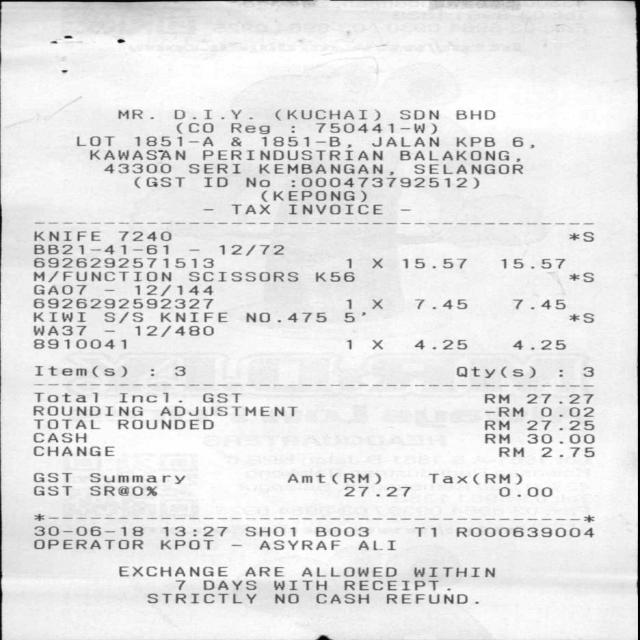text: (291, 176, 478, 188), (32, 297, 212, 309), (33, 256, 212, 268), (202, 149, 382, 160), (32, 270, 170, 282), (257, 163, 392, 175), (456, 526, 596, 537), (32, 243, 166, 254), (315, 122, 436, 134), (399, 150, 519, 162), (159, 406, 296, 416), (187, 270, 297, 282), (147, 592, 254, 604), (273, 109, 379, 121), (259, 190, 365, 202), (31, 405, 141, 416), (412, 163, 521, 174), (33, 525, 142, 536), (118, 566, 226, 577), (34, 364, 125, 377), (88, 472, 183, 484), (286, 472, 379, 484), (427, 472, 520, 484), (33, 539, 142, 549), (260, 136, 349, 148), (343, 579, 440, 590), (88, 149, 183, 160), (286, 203, 381, 214), (117, 418, 212, 429), (301, 566, 395, 577), (455, 365, 533, 378), (414, 566, 494, 578), (134, 284, 212, 296), (134, 325, 212, 337), (386, 593, 471, 604), (34, 339, 124, 349), (32, 445, 112, 456), (259, 539, 339, 550), (133, 135, 211, 146), (173, 108, 242, 120), (244, 312, 325, 322), (218, 244, 282, 256), (158, 311, 226, 322), (525, 432, 593, 443), (31, 418, 98, 429), (34, 230, 99, 241), (90, 485, 155, 496), (343, 486, 408, 497), (161, 526, 226, 537), (500, 258, 563, 269), (371, 136, 437, 146), (104, 163, 170, 173), (526, 393, 592, 403), (401, 258, 466, 268), (527, 420, 592, 430), (33, 392, 96, 402), (118, 392, 180, 402), (134, 176, 183, 188), (32, 325, 85, 336), (540, 446, 593, 457), (498, 486, 551, 497), (118, 230, 170, 241), (511, 298, 563, 309), (31, 311, 83, 322), (202, 579, 254, 590), (315, 593, 367, 604), (188, 163, 239, 174), (540, 406, 593, 416), (32, 432, 85, 442), (158, 539, 211, 549), (33, 284, 85, 294), (315, 526, 367, 536), (273, 580, 325, 590), (414, 299, 465, 309), (442, 338, 478, 352), (244, 526, 294, 536), (314, 270, 353, 282), (103, 311, 142, 323), (175, 122, 212, 134), (229, 123, 268, 134), (483, 406, 522, 417), (75, 135, 112, 146), (357, 539, 394, 550), (344, 298, 380, 309), (398, 109, 437, 119), (243, 566, 282, 576), (455, 109, 493, 119), (455, 136, 493, 146), (231, 204, 269, 214), (202, 392, 240, 402), (33, 472, 71, 482), (115, 108, 152, 118), (344, 258, 380, 268), (344, 339, 380, 349), (34, 485, 70, 495), (273, 592, 297, 604), (483, 432, 508, 443), (497, 446, 522, 457), (245, 176, 269, 187), (483, 393, 508, 403), (483, 420, 508, 430), (512, 136, 532, 148), (202, 177, 226, 187), (569, 231, 593, 241), (569, 272, 593, 282), (569, 312, 593, 322), (540, 339, 564, 349), (342, 312, 364, 322), (413, 339, 435, 349), (512, 340, 534, 350), (414, 527, 434, 537), (581, 366, 592, 377), (173, 579, 184, 590), (230, 136, 240, 146), (174, 366, 183, 376), (557, 368, 561, 376), (231, 544, 240, 546)
